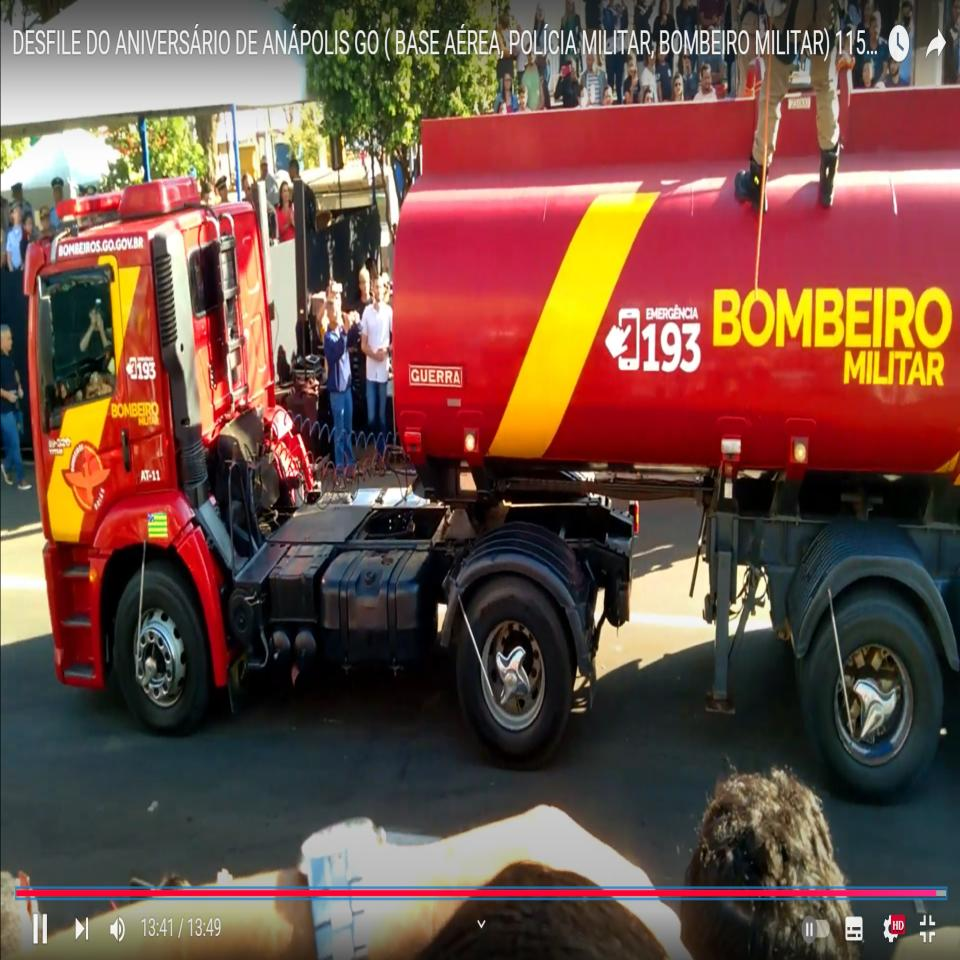viatura: (23, 99, 958, 801)
